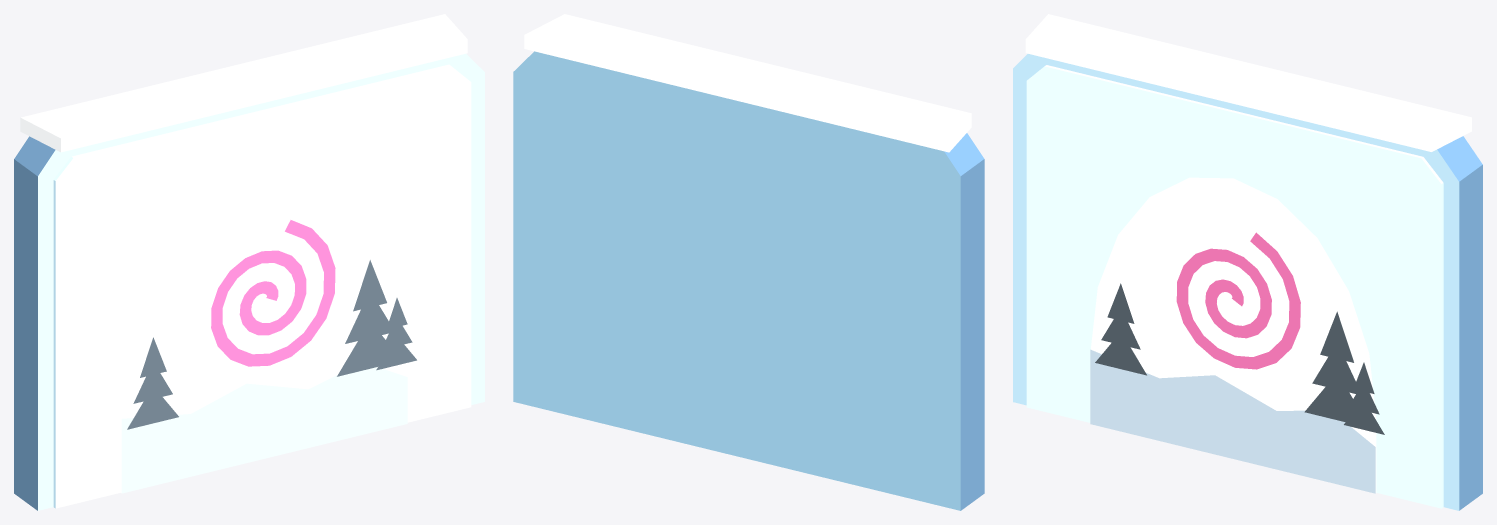
File: fake-exit.glb
3 views of the same model, side by side, from view 1: azimuth 30°, elevation 25°; view 2: azimuth 150°, elevation 25°; view 3: azimuth 330°, elevation 25° (orthographic).
Parts seen in each view (by area): view 1: fake-exit; view 2: fake-exit; view 3: fake-exit.
Part boxes in pixels (bbox=[...]): fake-exit: bbox=[14, 14, 484, 510]; fake-exit: bbox=[513, 14, 984, 510]; fake-exit: bbox=[1013, 14, 1482, 510].
Bounding box in the file's own units: 10 × 7.97 × 1.22.
